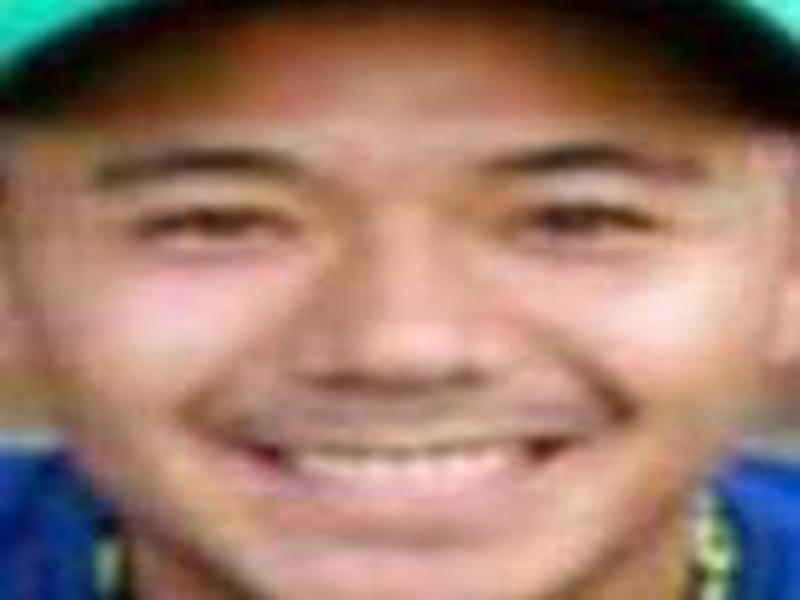without_mask: (6, 57, 763, 593)
